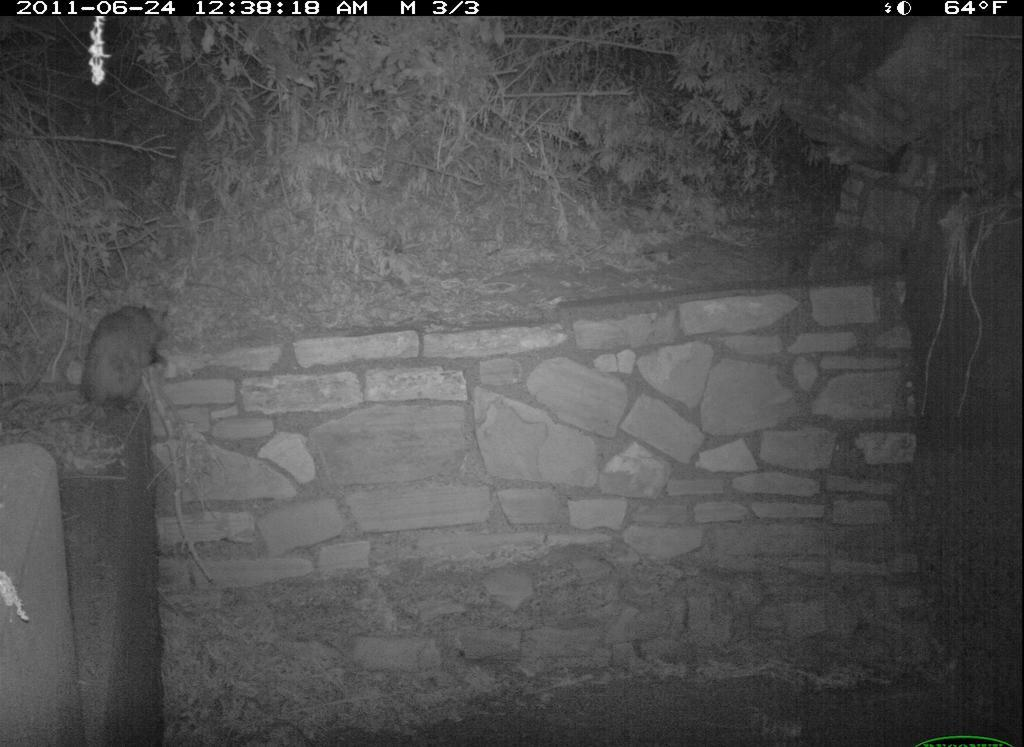opossum: (58, 297, 181, 436)
